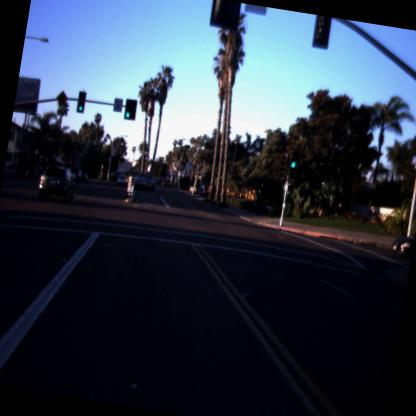trafficlight: (74, 87, 87, 115), (122, 98, 138, 120)
